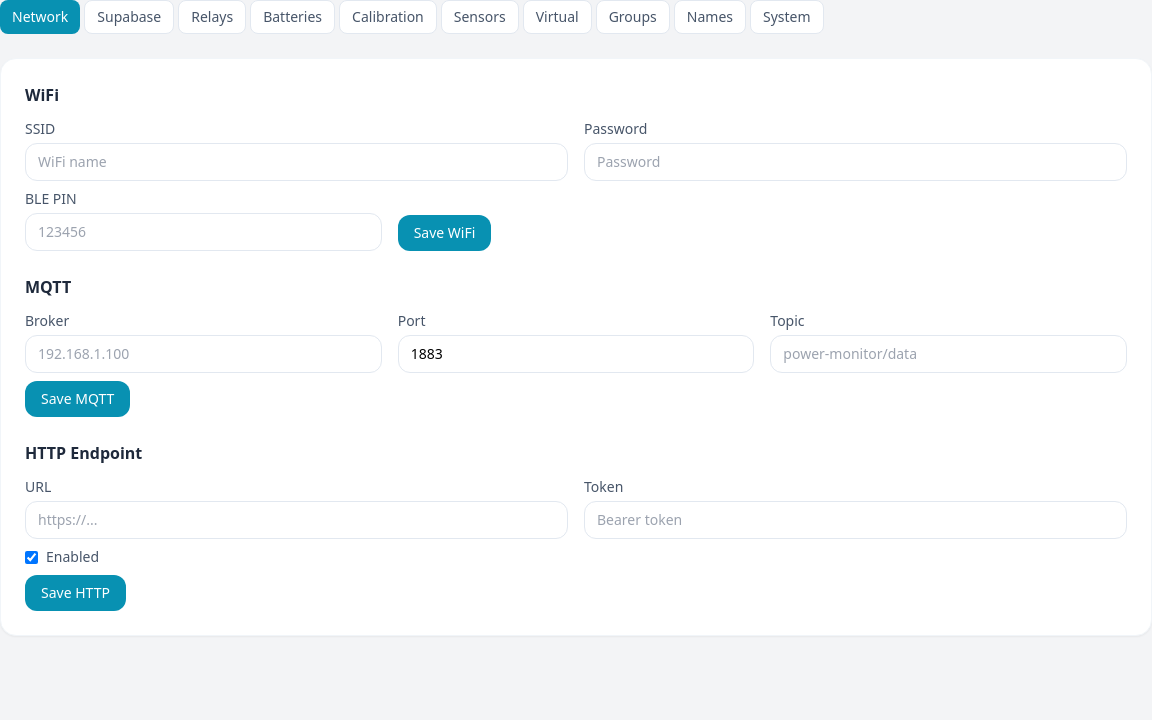
Test: SettingsPage sendCommand migration › propagates errors from setShunt to the message banner
expect the button "Save WiFi" is shown: met, box [398,215,491,251]
Click the button "sensors". click: click(480, 17)
box: [441,0,519,34]
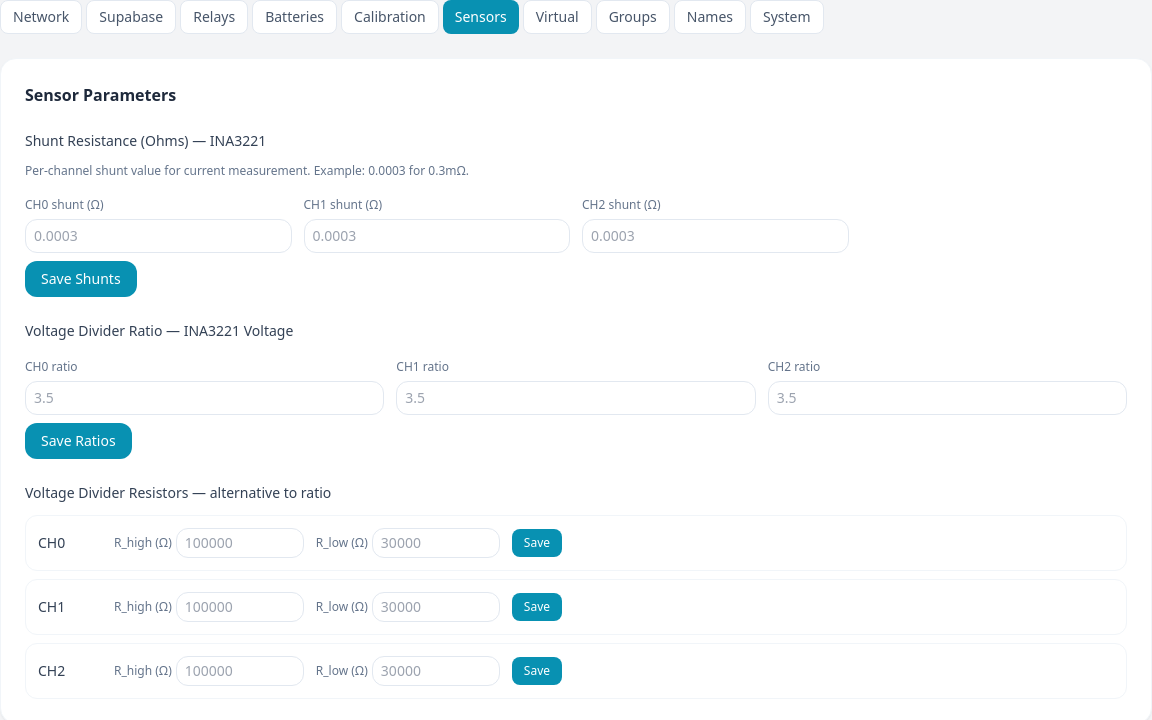
Type "0.001" into the number field with id "shunt-0". click: (158, 236)
box: [25,219,292,253]
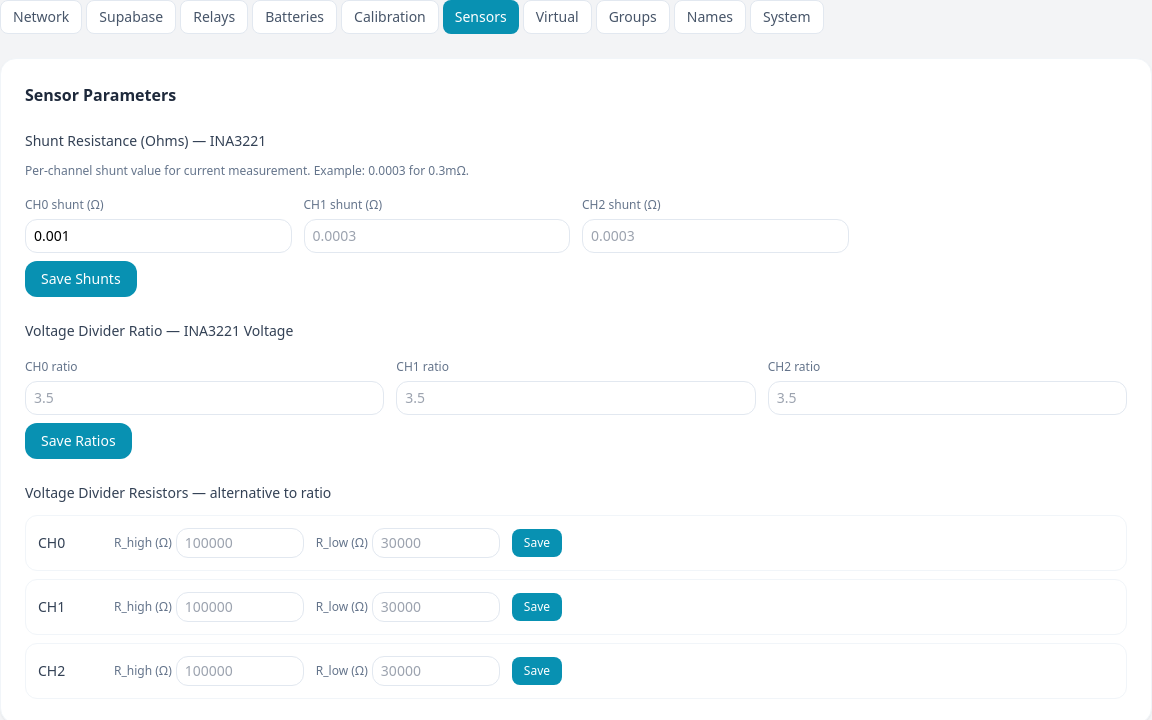
Click the button "Save Shunts". click: click(81, 279)
box: [25,261,137,297]
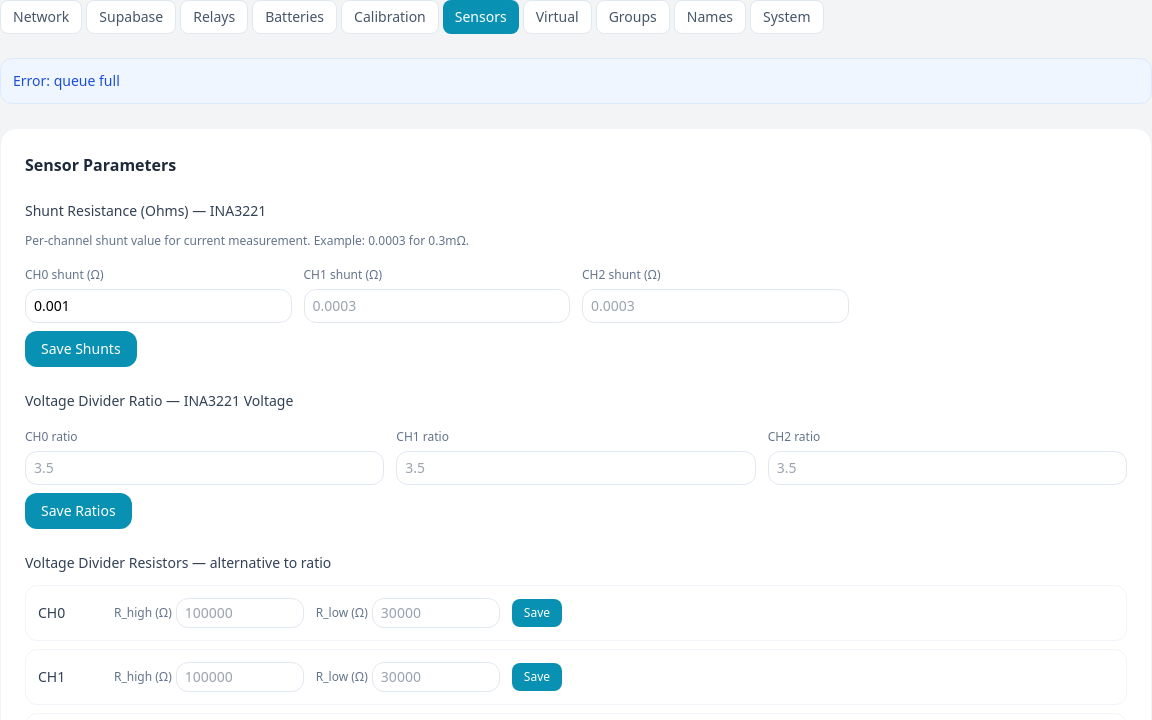
expect the text "Error: queue full" is shown: met, box [0,58,1151,104]
